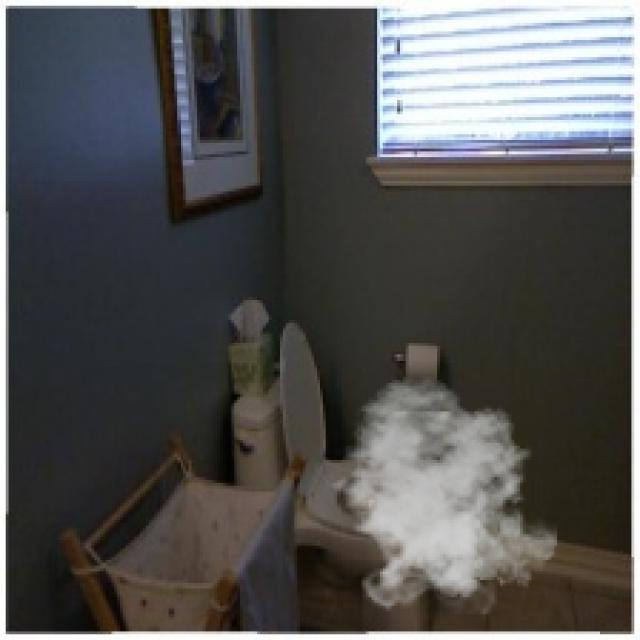Smoke: (320, 377, 557, 614)
